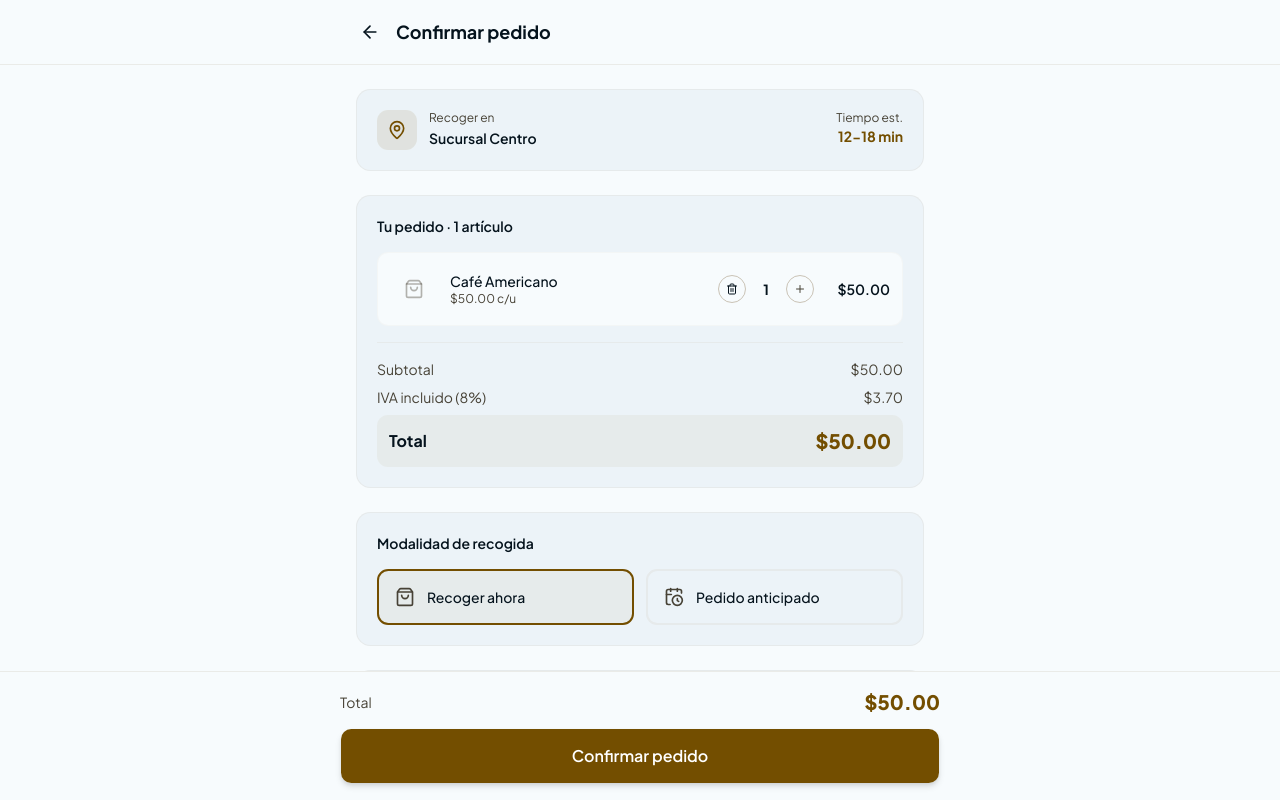
Test: CheckoutView — RF-14 pedidos anticipados › revela el input de fecha y hora al elegir 'Pedido anticipado'
The image size is (1280, 800).
Click the button with test id "mode-scheduled". click: click(774, 597)
box: 646,569 -> 903,625
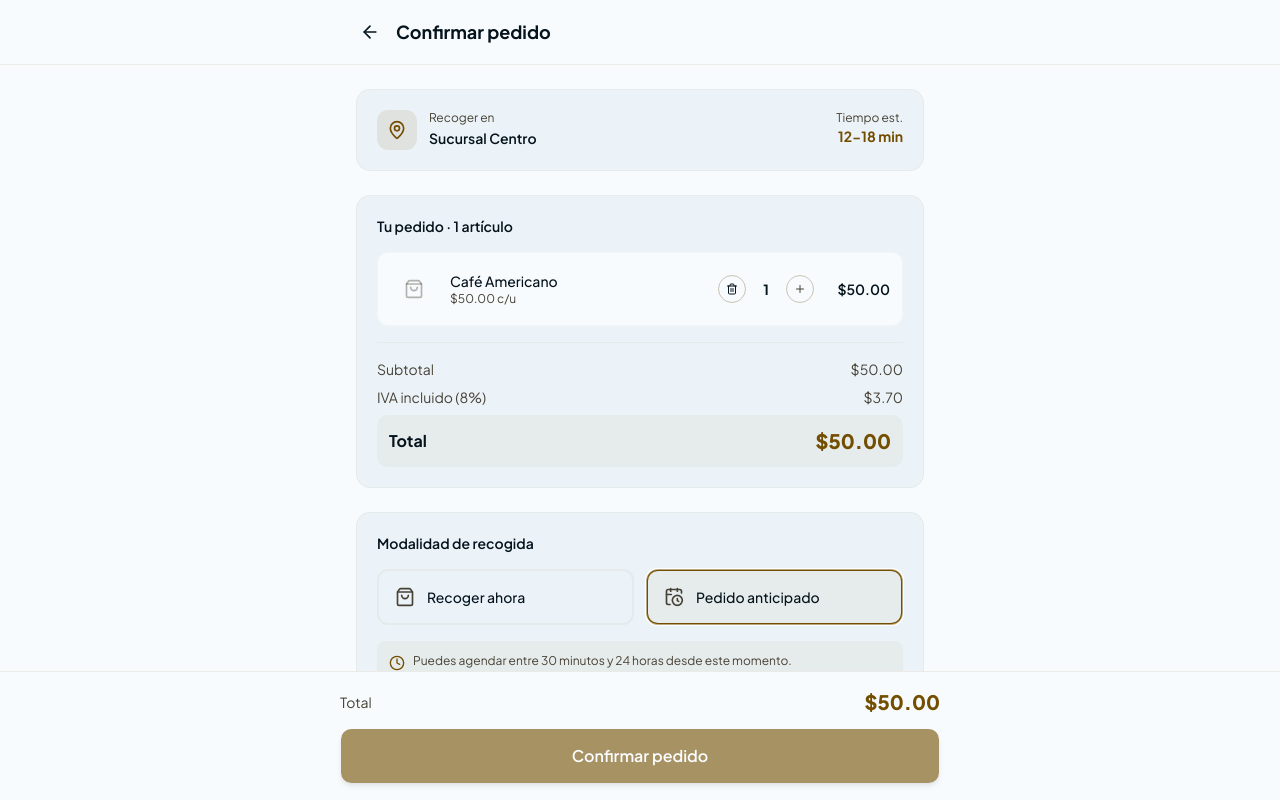
Now the field with test id "scheduled-pickup-input" is shown, box 377,691 -> 903,729
